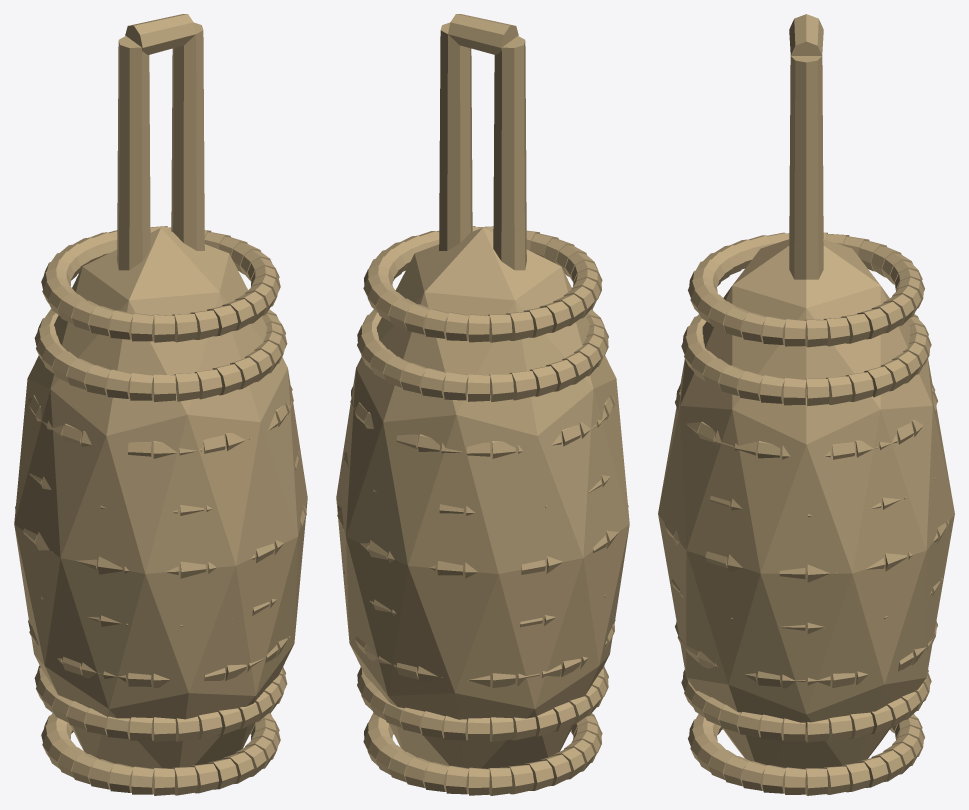
3 views of the same model, side by side, from view 1: azimuth 30°, elevation 25°; view 2: azimuth 150°, elevation 25°; view 3: azimuth 270°, elevation 25° (orthographic).
Parts seen in each view (by area): view 1: CE-034 Bound rope hull fender batched; view 2: CE-034 Bound rope hull fender batched; view 3: CE-034 Bound rope hull fender batched.
Boxes of the visible parts, x1,y1,x2,y2 form: CE-034 Bound rope hull fender batched: (14,14,307,795); CE-034 Bound rope hull fender batched: (336,14,629,795); CE-034 Bound rope hull fender batched: (658,14,954,795).
Size of the model in its own units: 0.2339 by 0.684 by 0.24.
